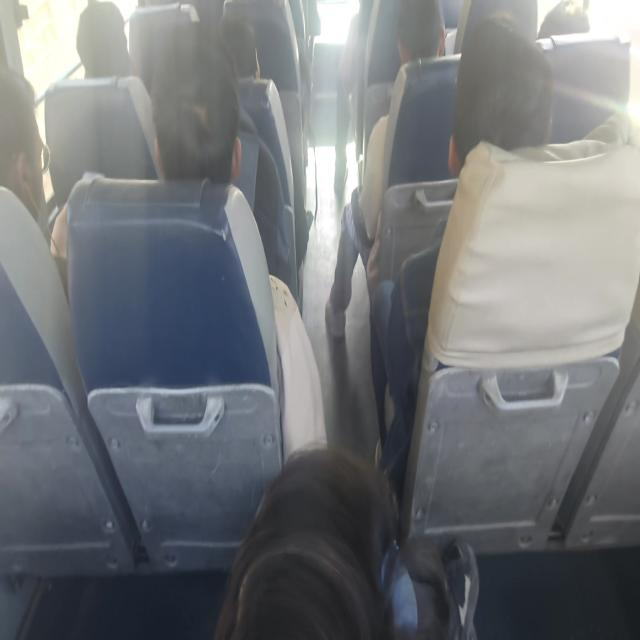person: (368, 12, 554, 498), (214, 442, 479, 638), (324, 0, 446, 339), (151, 26, 298, 302), (0, 66, 70, 299), (150, 28, 242, 183), (76, 0, 136, 79), (219, 14, 260, 80), (537, 0, 590, 38)
